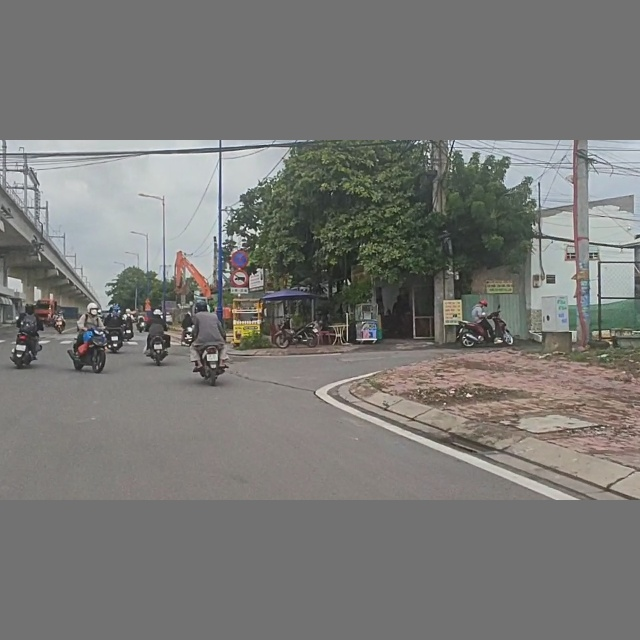B.8a: (231, 270, 250, 287)
P.130: (231, 251, 251, 269)
